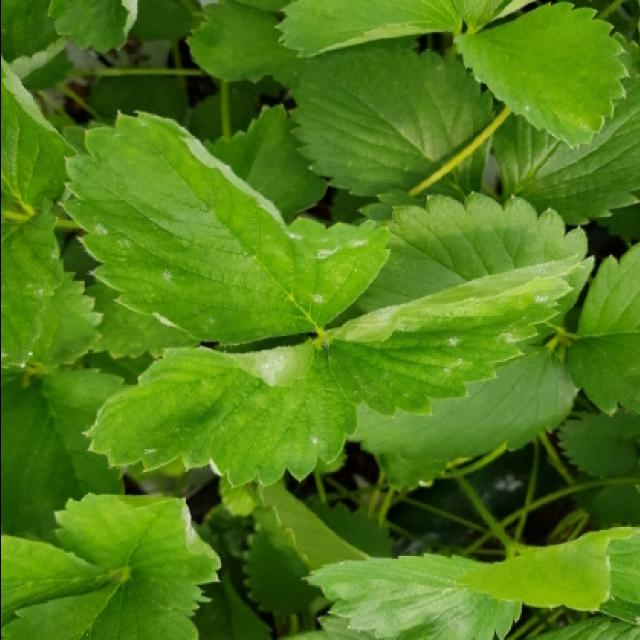Powdery Mildew Leaf: (58, 106, 393, 349), (79, 337, 356, 492), (326, 255, 581, 418)
